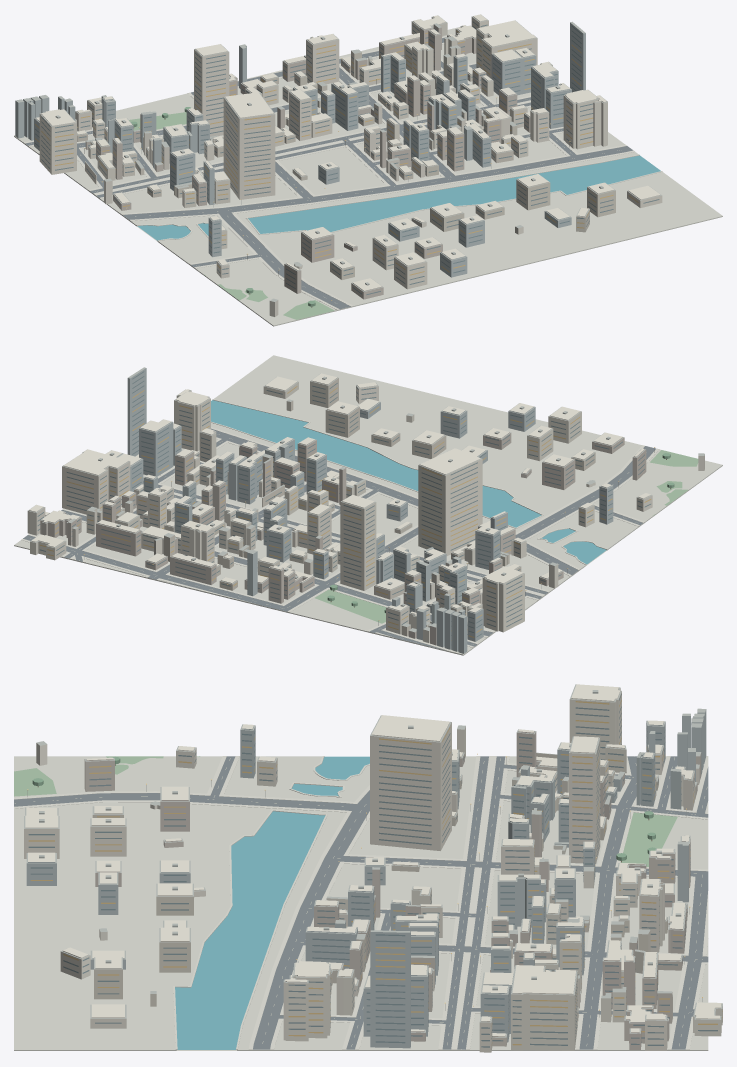
3 renders of one model, top to bottom at view 1: azimuth 30°, elevation 25°; view 2: azimuth 150°, elevation 25°; view 3: azimuth 270°, elevation 25°, orthographic. The views are drawn at different scales.
Visible parts, largest first — view 1: city; view 2: city; view 3: city.
Boxes of the visible parts, <box> form: city: <box>14,14,722,326</box>; city: <box>14,355,722,655</box>; city: <box>14,684,722,1052</box>.
Size of the model in its own units: 518 by 92.8 by 510.
